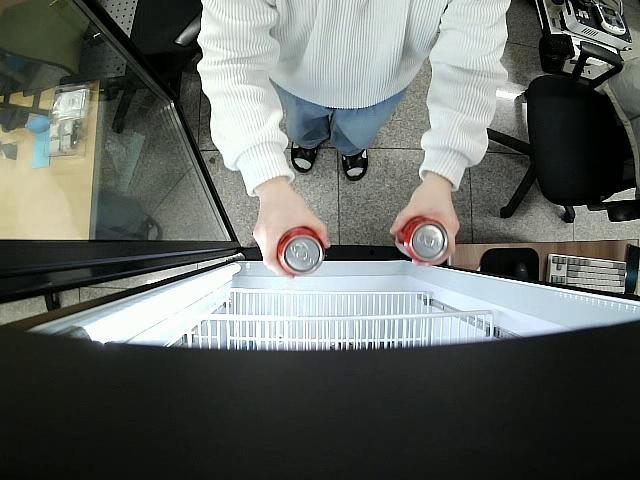11_cocaColaZero: (274, 224, 325, 275), (396, 216, 450, 264)
